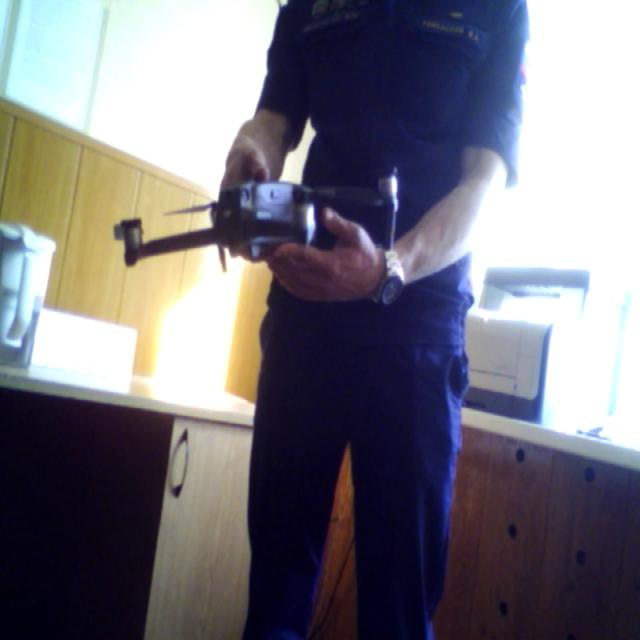drone: (91, 146, 410, 312)
